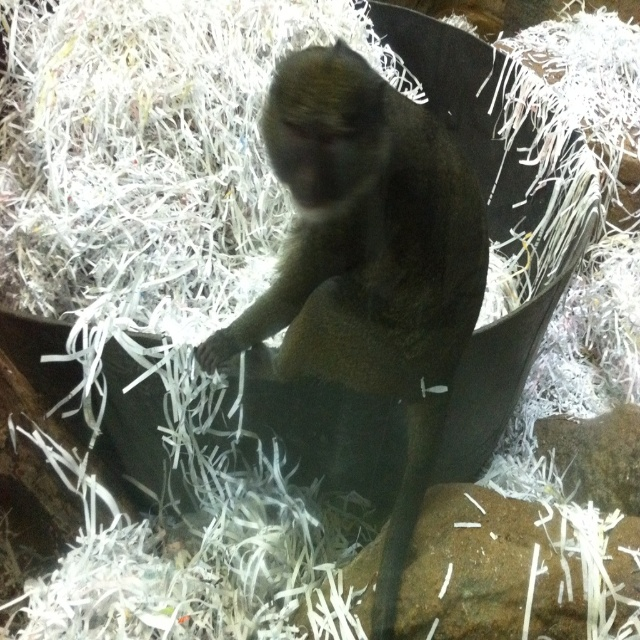Monkey: (193, 37, 489, 639)
